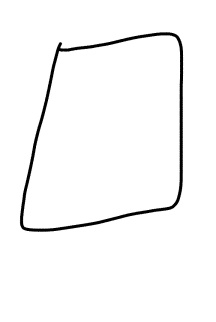Square: (17, 30, 191, 234)
